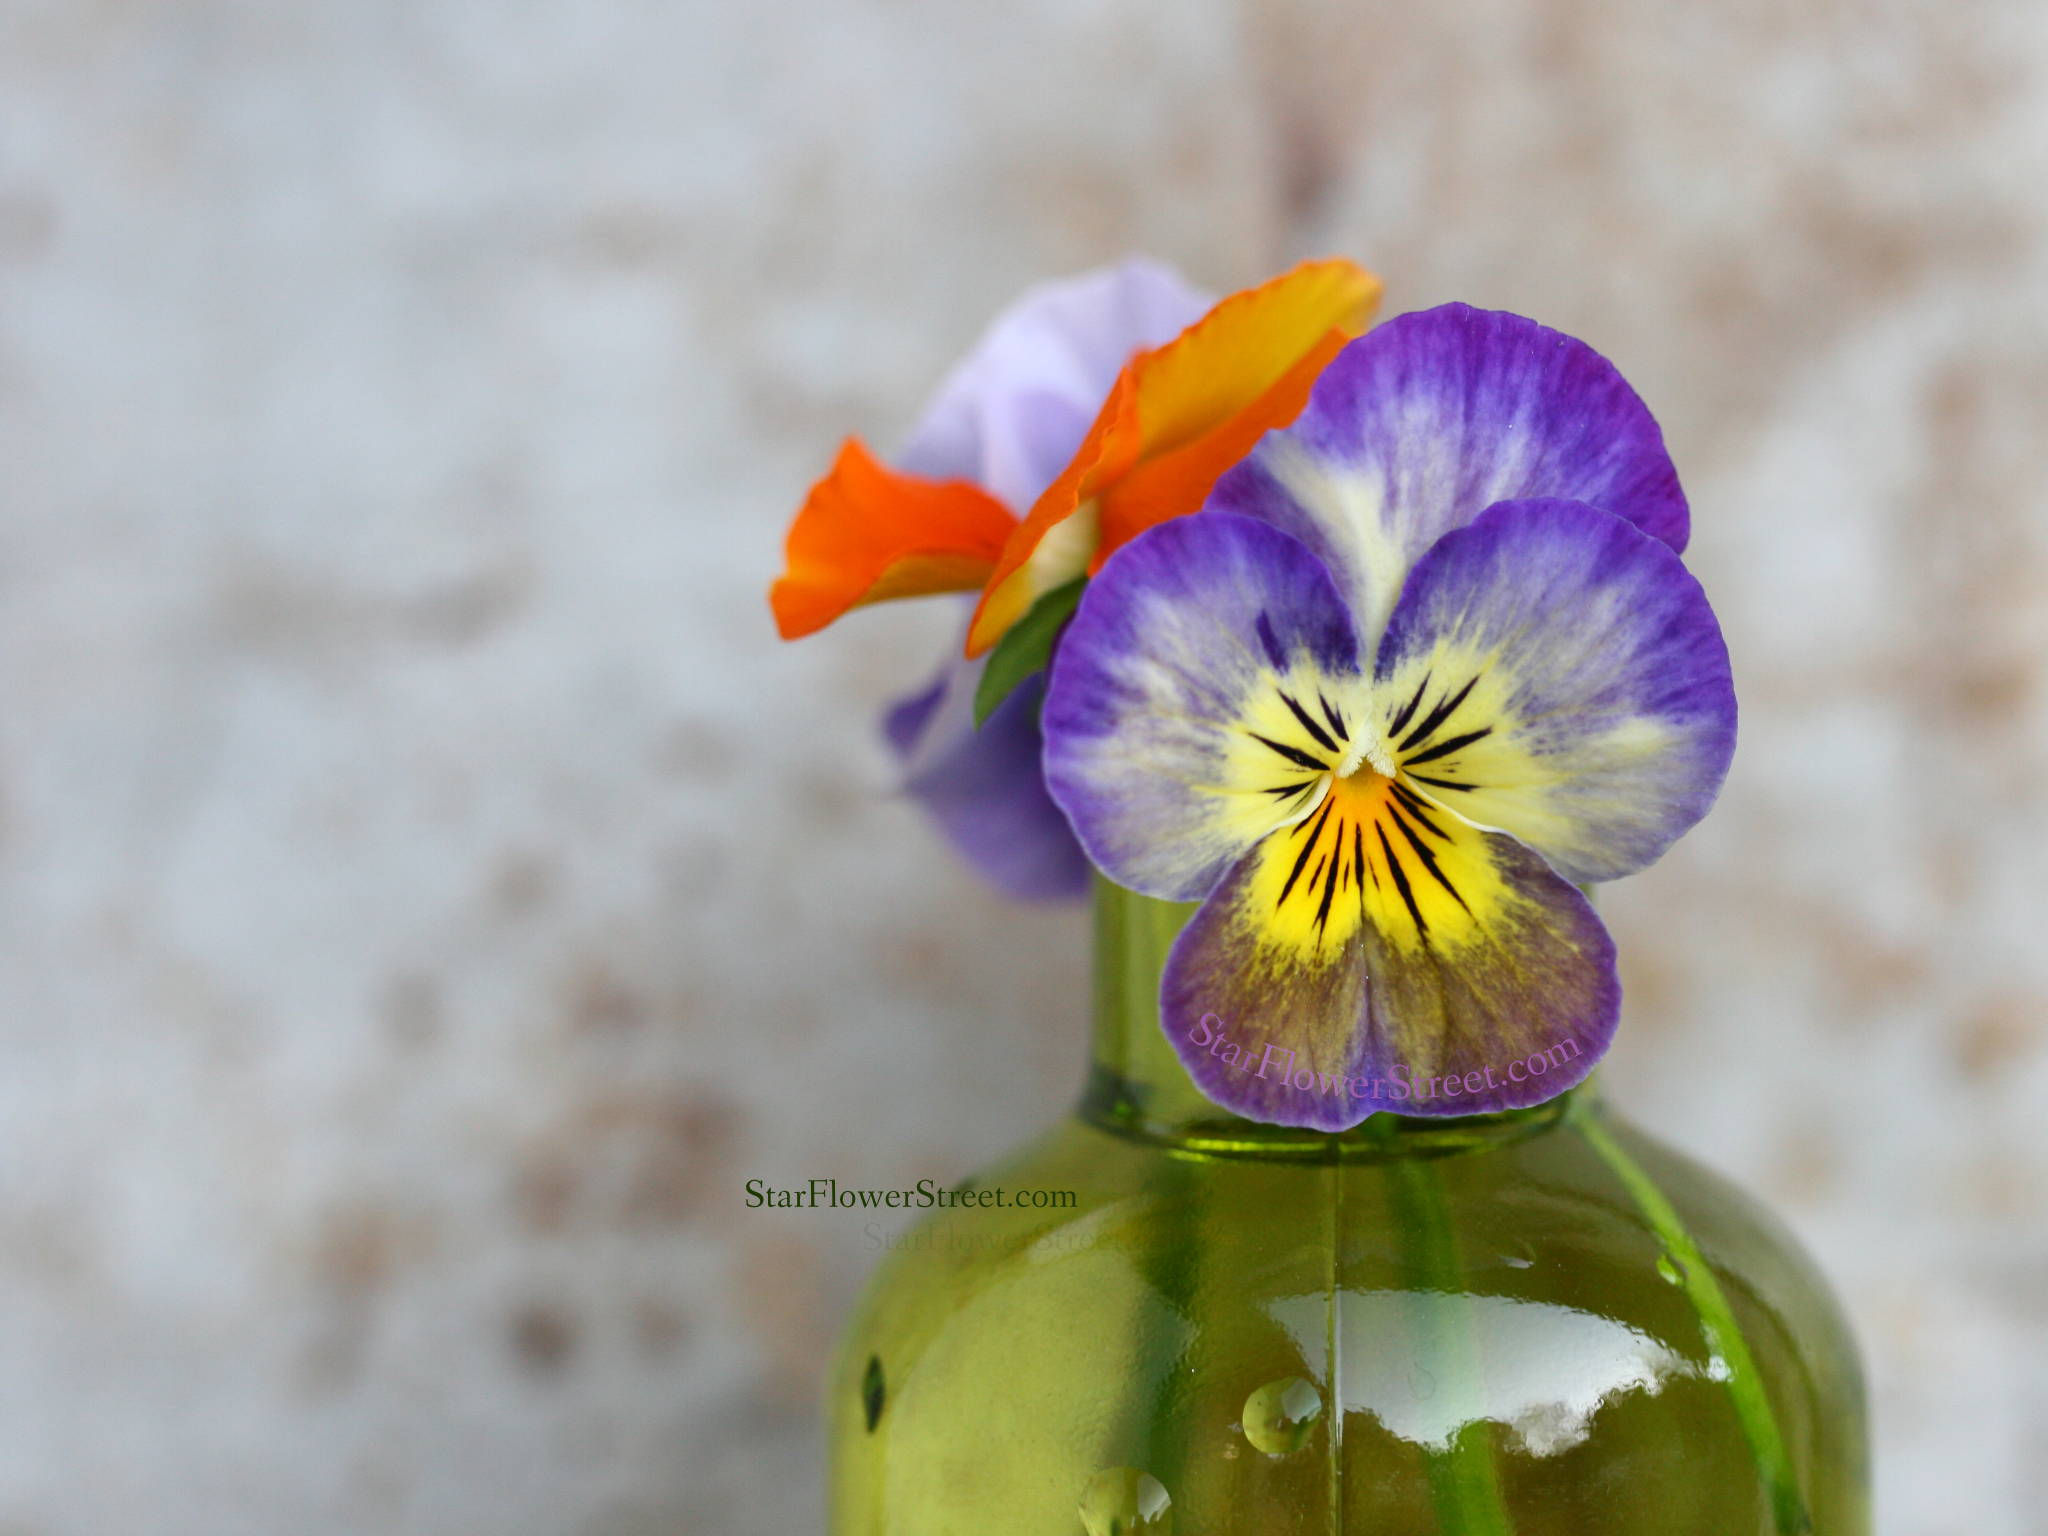violet: (1022, 297, 1738, 1154)
